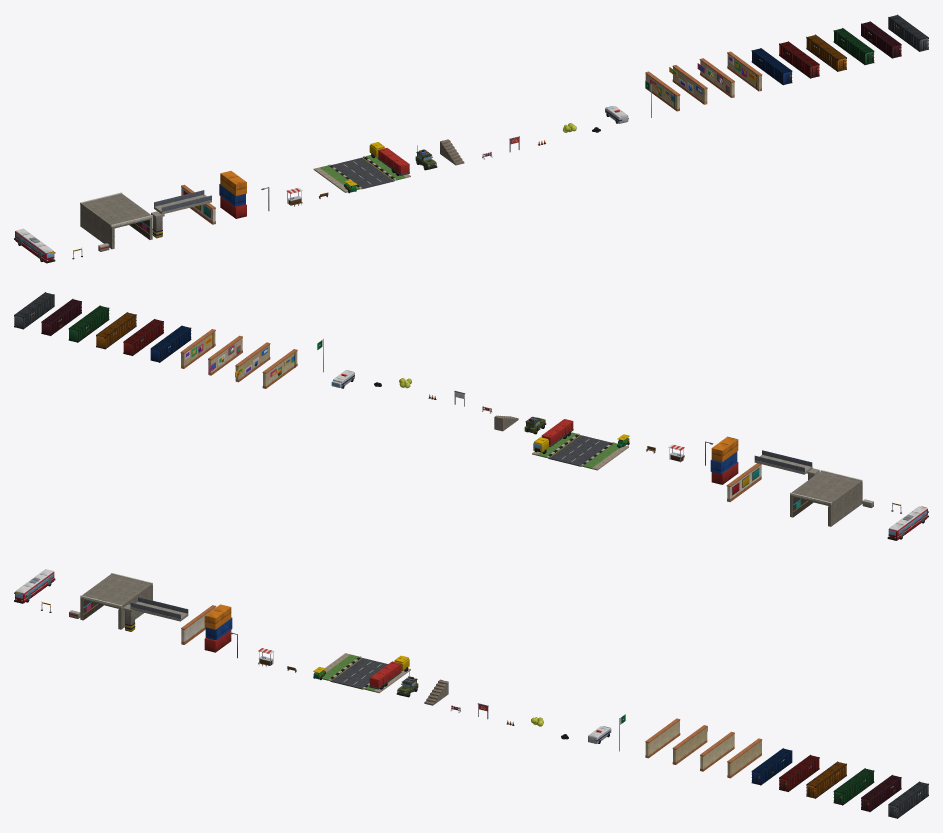
Rendered from props.glb.
3 renders of one model, top to bottom at view 1: azimuth 30°, elevation 25°; view 2: azimuth 150°, elevation 25°; view 3: azimuth 330°, elevation 25°, orthographic.
Parts seen in each view (by area): view 1: tunnel, road_tile, container_stack, container_1, container_2, container_4, container_5, container_3, container_0, overpass, wall_graffiti_1, wall_graffiti_2 (+4 smaller); view 2: tunnel, road_tile, container_stack, container_0, container_2, container_5, container_1, container_4, container_3, overpass, train_metro, container_truck (+5 smaller); view 3: tunnel, road_tile, container_stack, container_0, container_2, container_5, container_1, container_4, container_3, overpass, train_metro, container_truck (+5 smaller).
Boxes of the visible parts, <box> form: tunnel: <box>80,192,152,249</box>; road_tile: <box>313,155,410,192</box>; container_stack: <box>219,171,246,218</box>; container_1: <box>779,41,819,78</box>; container_2: <box>806,34,846,71</box>; container_4: <box>861,21,901,58</box>; container_5: <box>888,14,928,51</box>; container_3: <box>833,28,874,64</box>; container_0: <box>751,48,792,85</box>; overpass: <box>154,190,211,214</box>; wall_graffiti_1: <box>669,65,707,104</box>; wall_graffiti_2: <box>697,58,734,97</box>; tunnel: <box>790,470,862,526</box>; road_tile: <box>532,432,628,470</box>; container_stack: <box>710,436,738,484</box>; container_0: <box>150,325,191,362</box>; container_2: <box>96,312,136,349</box>; container_5: <box>14,292,54,329</box>; container_1: <box>123,319,163,355</box>; container_4: <box>41,299,81,335</box>; container_3: <box>68,305,109,342</box>; overpass: <box>754,450,812,474</box>; train_metro: <box>887,506,928,540</box>; container_truck: <box>533,419,573,453</box>; tunnel: <box>80,573,152,629</box>; road_tile: <box>322,653,410,693</box>; container_stack: <box>204,604,232,652</box>; container_0: <box>751,748,792,785</box>; container_2: <box>806,761,846,798</box>; container_5: <box>888,781,928,818</box>; container_1: <box>779,754,819,791</box>; container_4: <box>861,775,901,811</box>; container_3: <box>833,768,874,805</box>; overpass: <box>130,597,188,621</box>; train_metro: <box>14,569,55,603</box>; container_truck: <box>369,655,409,689</box>.
Size of the model in its own units: 194 by 7.4 by 14.47.
6 materials, 5 textured.
